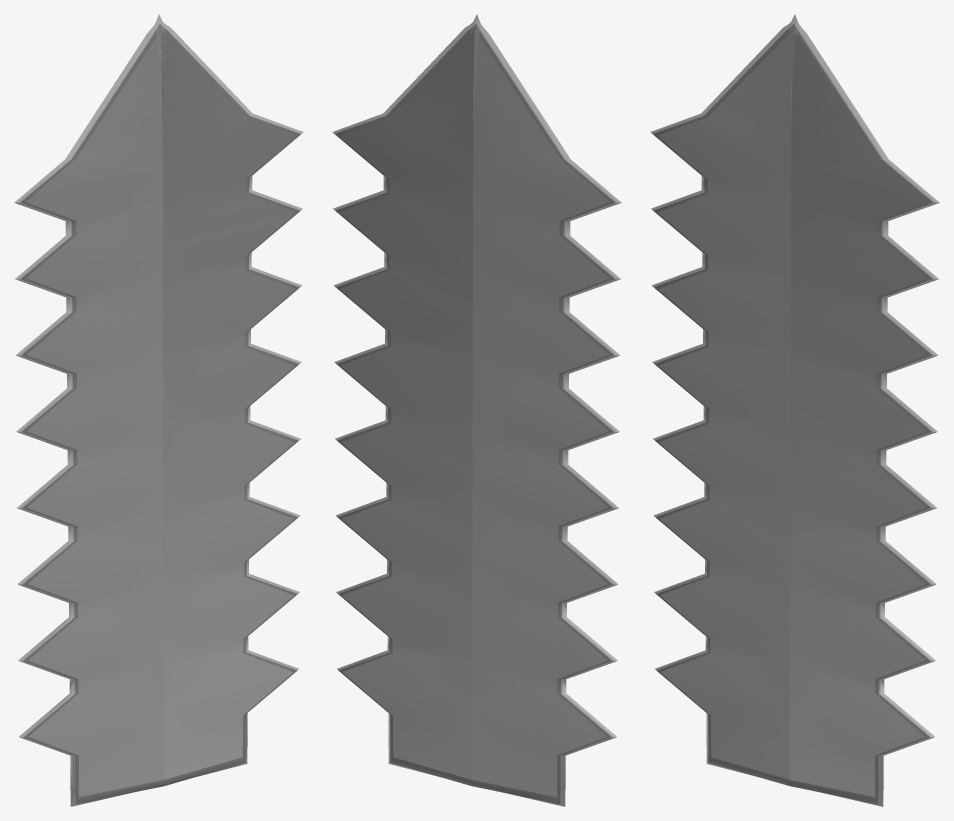
File: stone_blade (10).glb
3 renders of one model, left to right at view 1: azimuth 30°, elevation 25°; view 2: azimuth 150°, elevation 25°; view 3: azimuth 330°, elevation 25°, orthographic.
Visible parts, largest first — view 1: stone_blade_unscratched.030; view 2: stone_blade_unscratched.030; view 3: stone_blade_unscratched.030.
Boxes of the visible parts, x1,y1,x2,y2 form: stone_blade_unscratched.030: (14,14,303,806); stone_blade_unscratched.030: (332,14,621,806); stone_blade_unscratched.030: (650,14,939,806).
Bounding box in the file's own units: 4.48 × 11.41 × 0.2879.
1 material, 1 textured.
